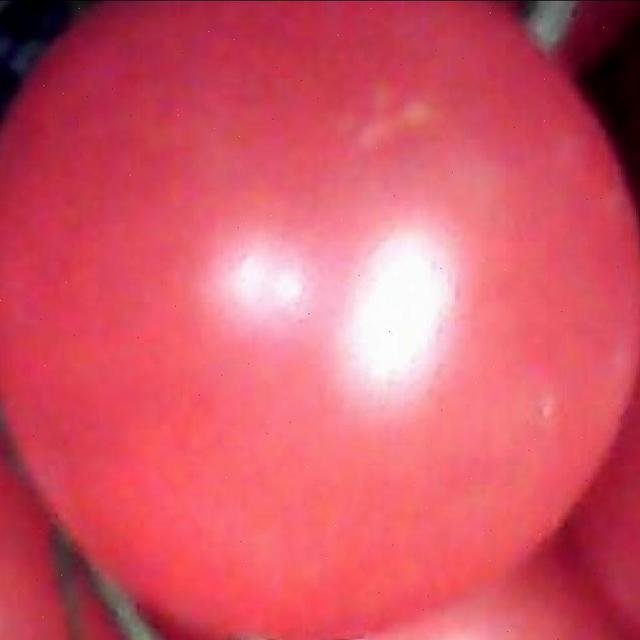Healthy Fruit: (0, 4, 427, 427)
